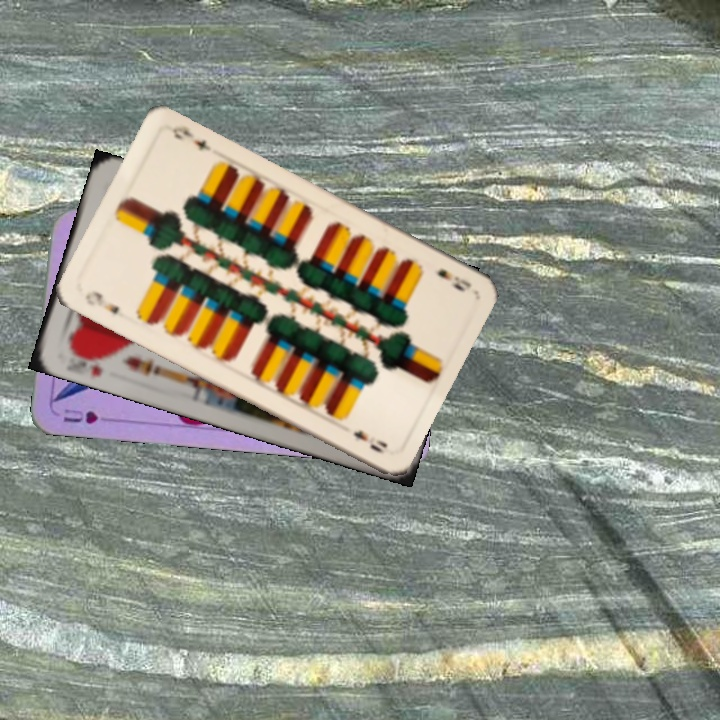E9: (80, 286, 122, 317), (433, 265, 474, 295)
HK: (65, 344, 106, 380)
HU: (59, 404, 101, 427)
